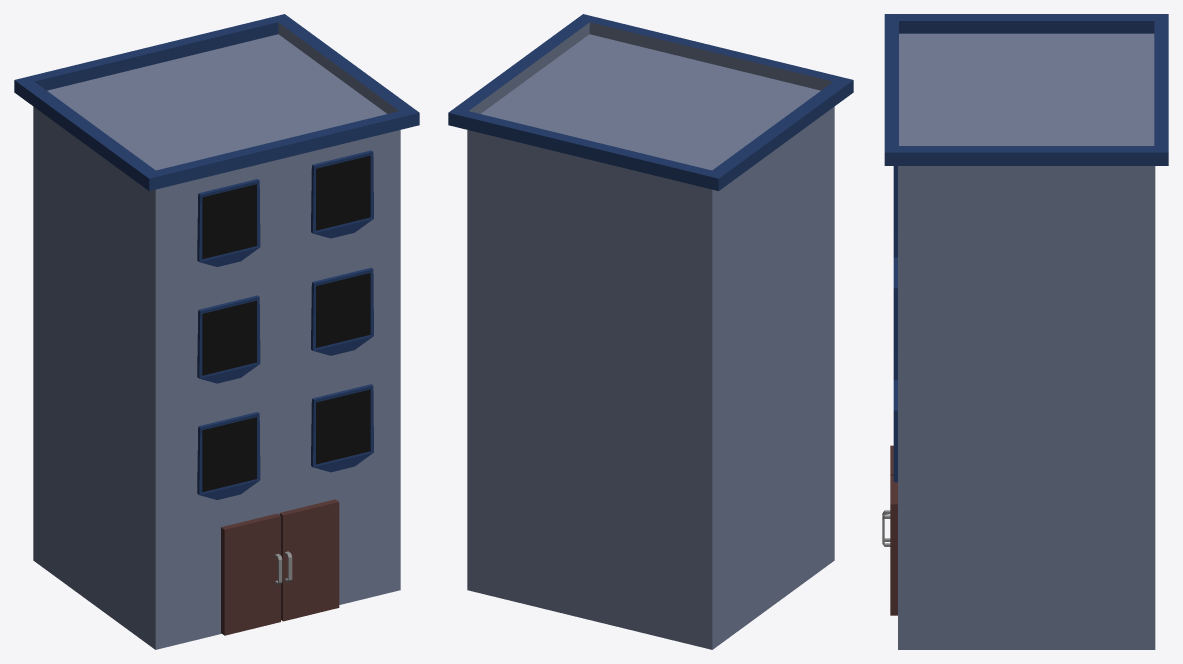
File: predio_simples.fbx
The picture shows the model from 3 angles, left to right: view 1: azimuth 30°, elevation 25°; view 2: azimuth 150°, elevation 25°; view 3: azimuth 270°, elevation 25°; orthographic projection. The views are drawn at different scales.
Parts seen in each view (by area): view 1: predio_simples; view 2: predio_simples; view 3: predio_simples.
Boxes of the visible parts, <box> form: predio_simples: <box>14,14,419,649</box>; predio_simples: <box>448,14,853,649</box>; predio_simples: <box>882,14,1168,649</box>.
Size of the model in its own units: 398 by 674 by 347.
